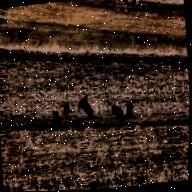boar: (50, 105, 68, 135), (120, 95, 134, 118), (59, 95, 72, 117), (107, 98, 120, 116), (83, 100, 92, 119), (76, 91, 84, 102)
